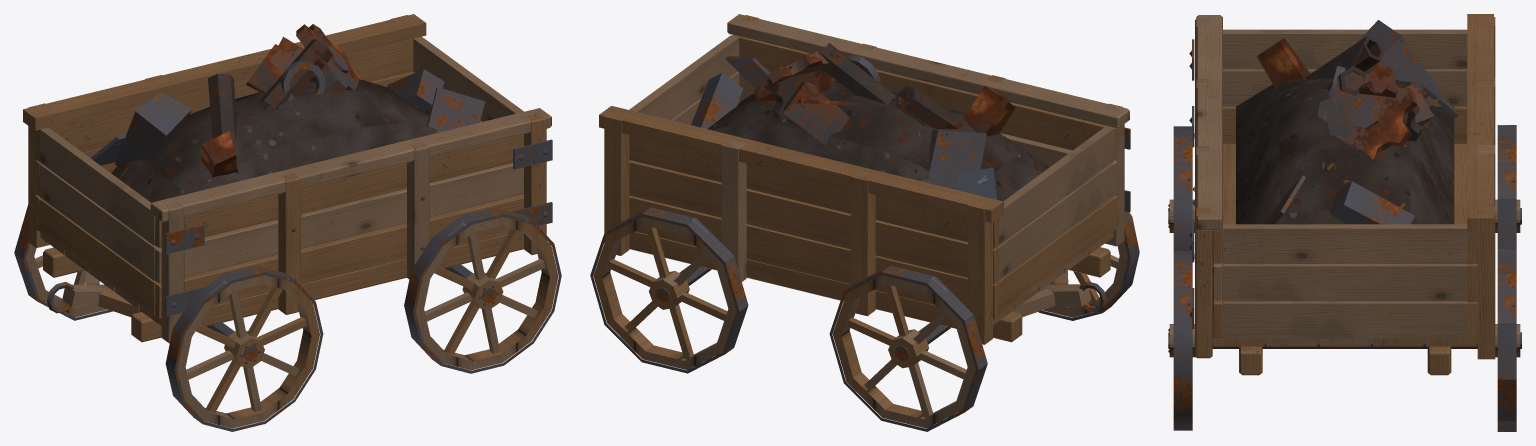
Rendered from Junk_Cart_Loaded.glb.
3 views of the same model, side by side, from view 1: azimuth 30°, elevation 25°; view 2: azimuth 150°, elevation 25°; view 3: azimuth 270°, elevation 25° (orthographic). The views are drawn at different scales.
Parts seen in each view (by area): view 1: Junk_Cart_Loaded; view 2: Junk_Cart_Loaded; view 3: Junk_Cart_Loaded.
Boxes of the visible parts, left/top/right/bottom form: Junk_Cart_Loaded: left=14, top=14, right=561, bottom=431; Junk_Cart_Loaded: left=590, top=14, right=1139, bottom=431; Junk_Cart_Loaded: left=1168, top=14, right=1521, bottom=431.
Size of the model in its own units: 1.84 by 1.17 by 1.2.
Materials: 5 (5 with a texture image).
